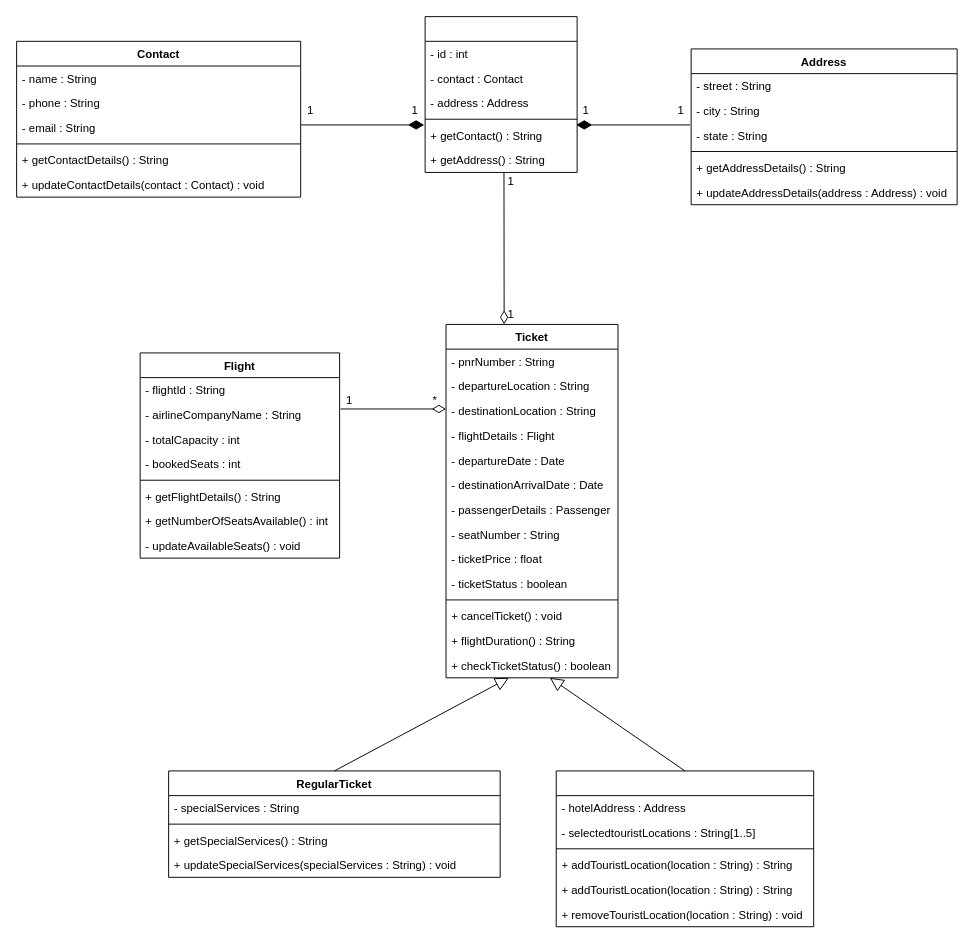
Image size: 974x946. Some labels were removed from this diagram. Each missing label, with the box of its shape:
Passenger: (424, 16, 577, 172)
TouristTicket: (555, 770, 814, 927)
